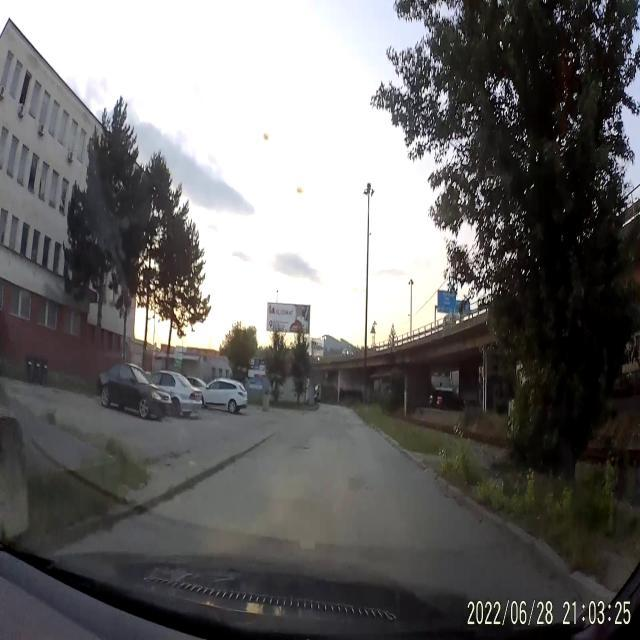Pothole: (286, 440, 312, 454)
